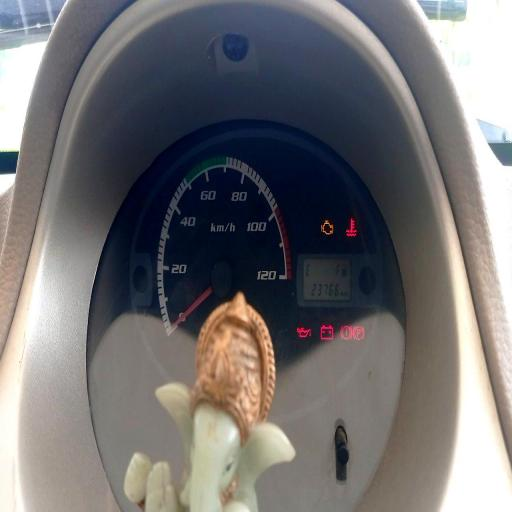brake_system_fault: (340, 323, 352, 342)
check_engine: (320, 219, 334, 236)
oil: (297, 326, 312, 339)
vehicle_charging: (320, 323, 334, 341)
